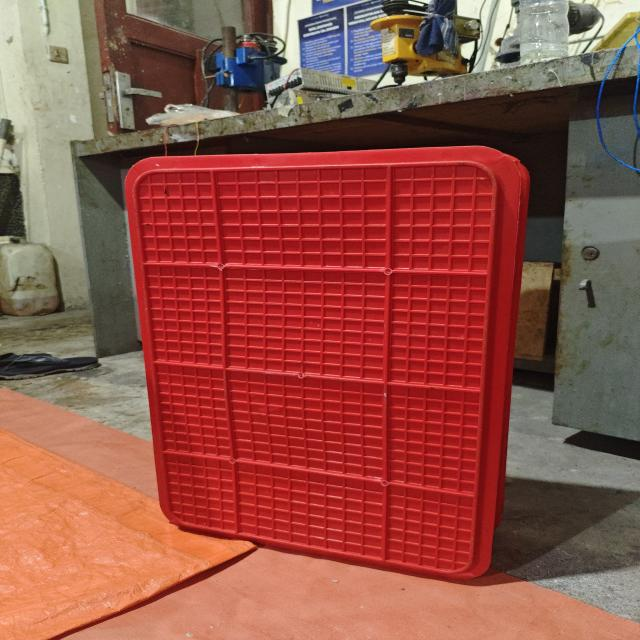red plastic box: (124, 146, 530, 580)
